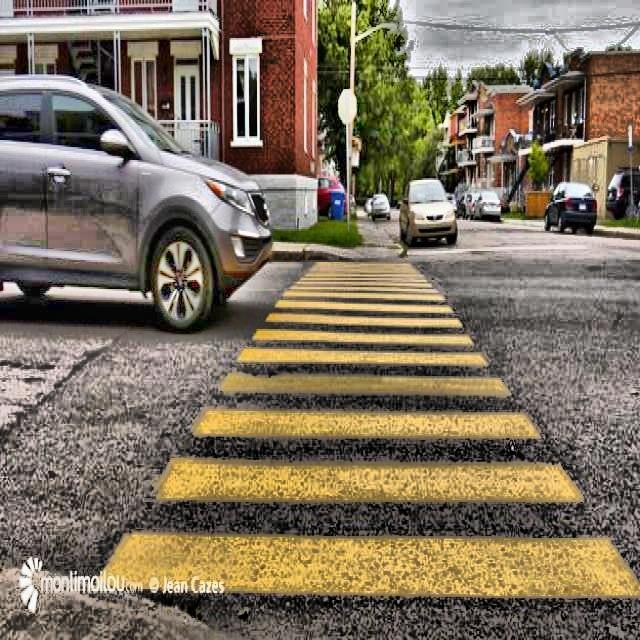faixa de pedestre: (95, 244, 639, 578)
